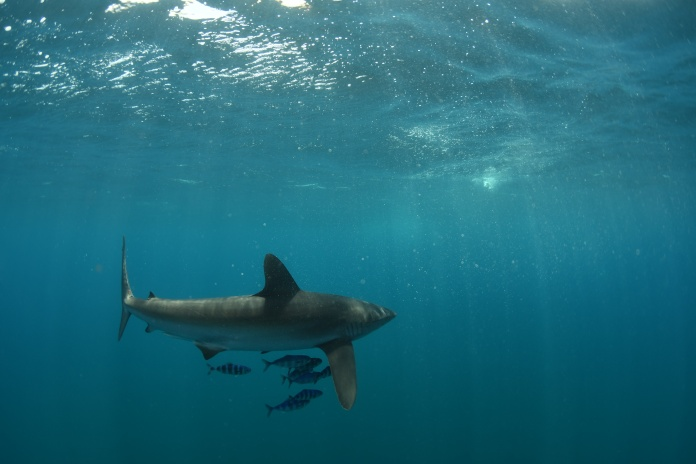Mako: (78, 229, 405, 415)
